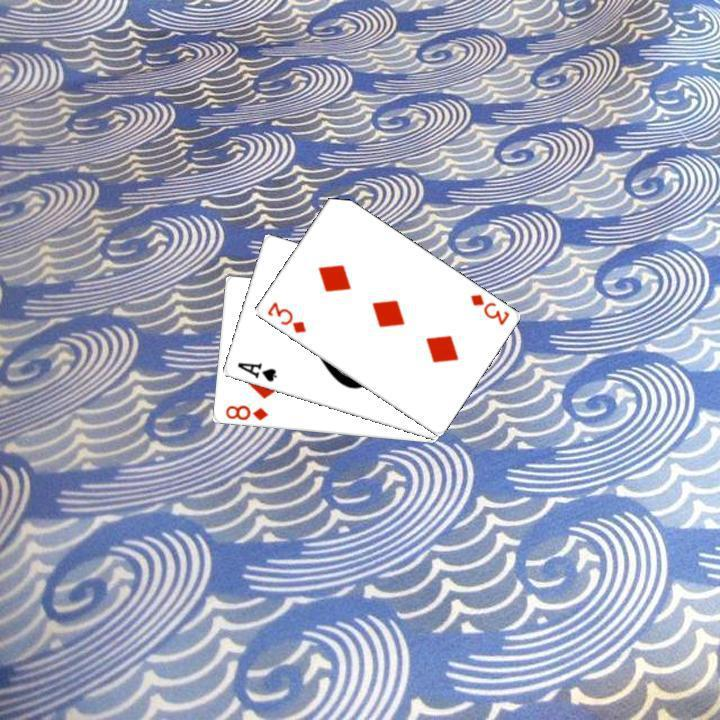3: (262, 297, 308, 335), (466, 290, 511, 327)
8: (221, 401, 270, 422)
A: (232, 358, 278, 384)
